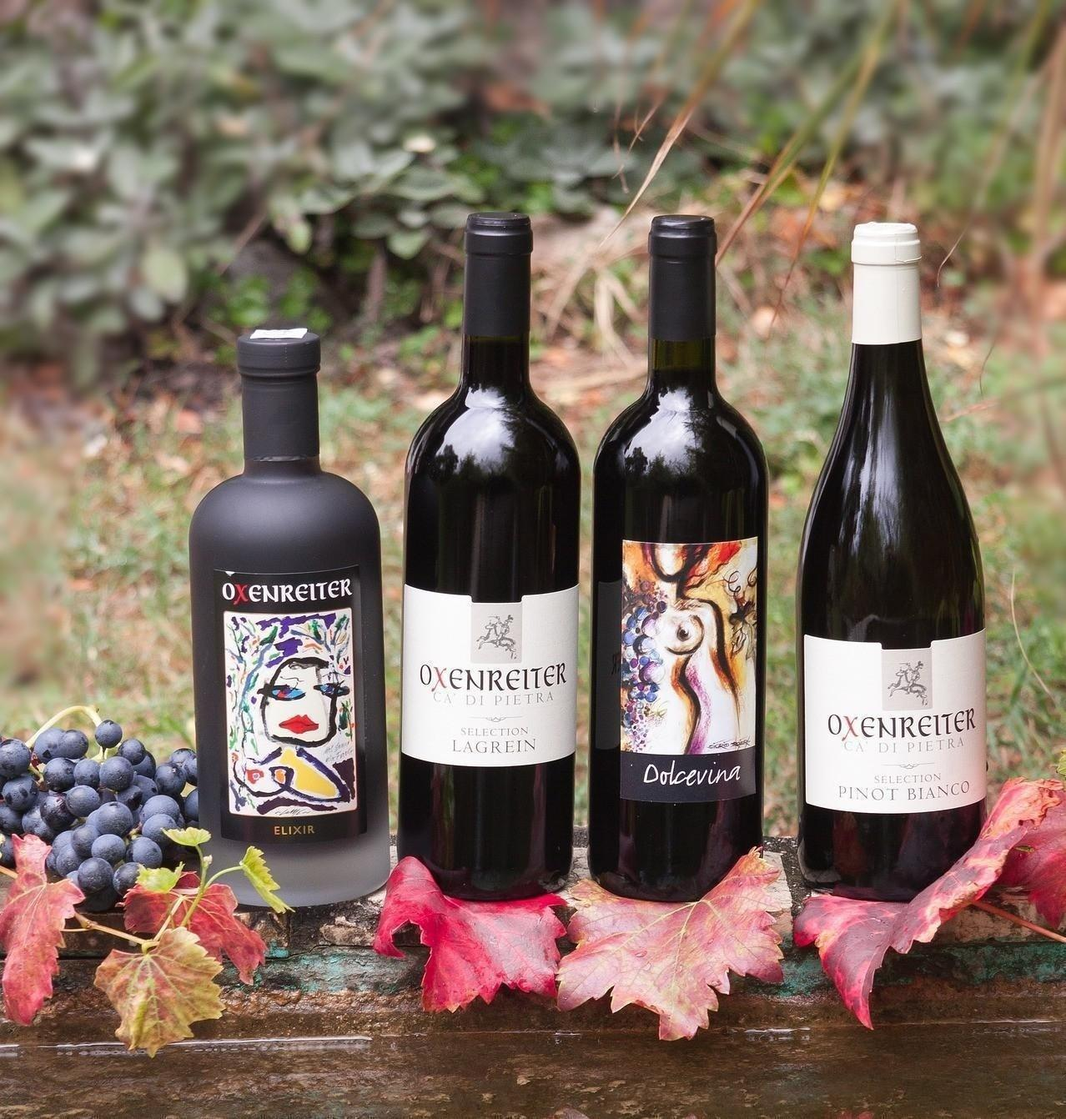bottle-glass: (394, 200, 590, 910), (792, 215, 990, 903), (183, 324, 390, 920), (592, 214, 769, 905)
